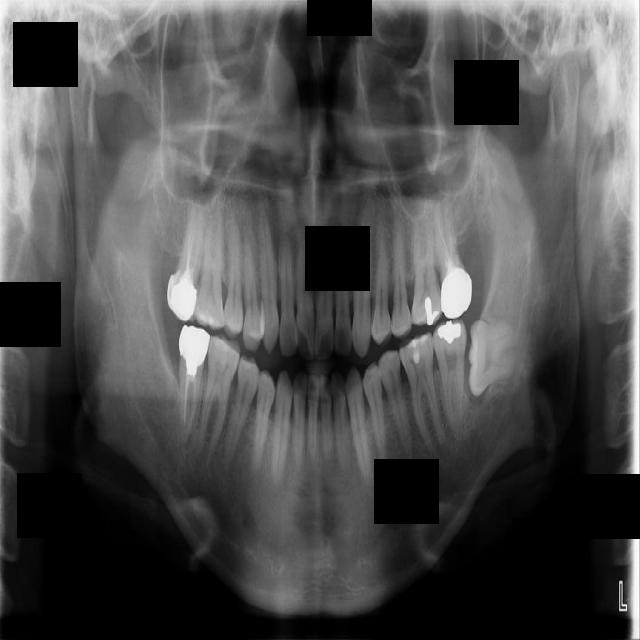52: (429, 316, 471, 363), (166, 266, 199, 323), (410, 276, 446, 328), (440, 265, 473, 320), (174, 323, 212, 370)
73: (429, 192, 465, 279), (178, 364, 203, 445)
BioHorizons Implant: (429, 192, 476, 321)
Biomet 3i Implant: (468, 318, 520, 396)
Blue Sky Bio Implant: (429, 317, 468, 437)
Caries: (162, 187, 219, 324)
Implant: (160, 323, 212, 446)
